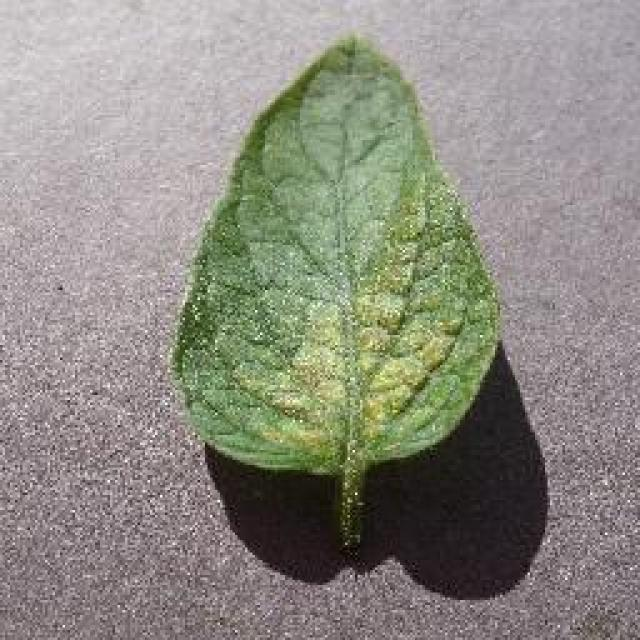Tomato mosaic virus leaf: (170, 32, 508, 478)
